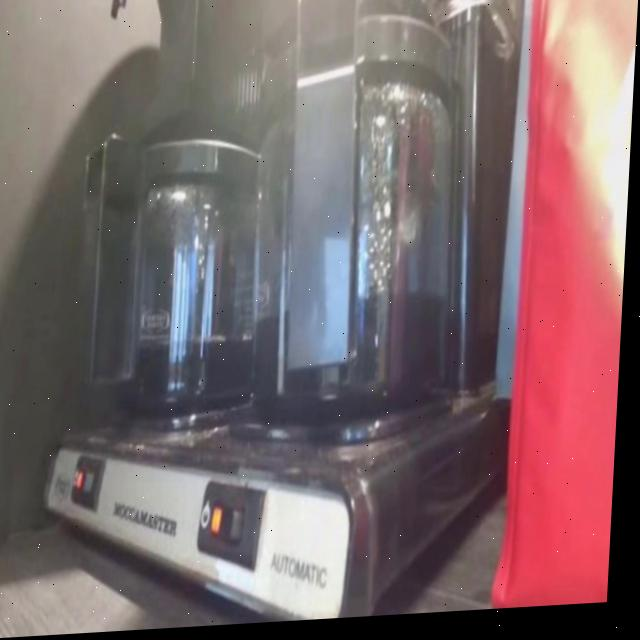coffee: (251, 132, 457, 421), (120, 207, 257, 410)
